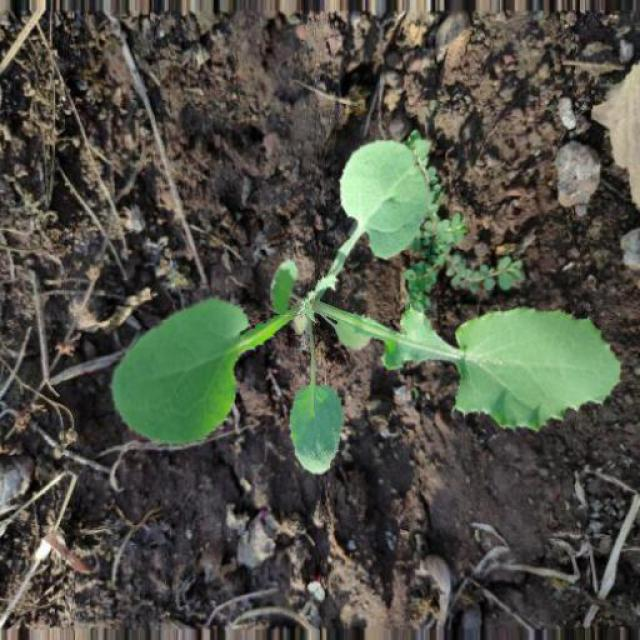weed: (81, 141, 621, 465)
